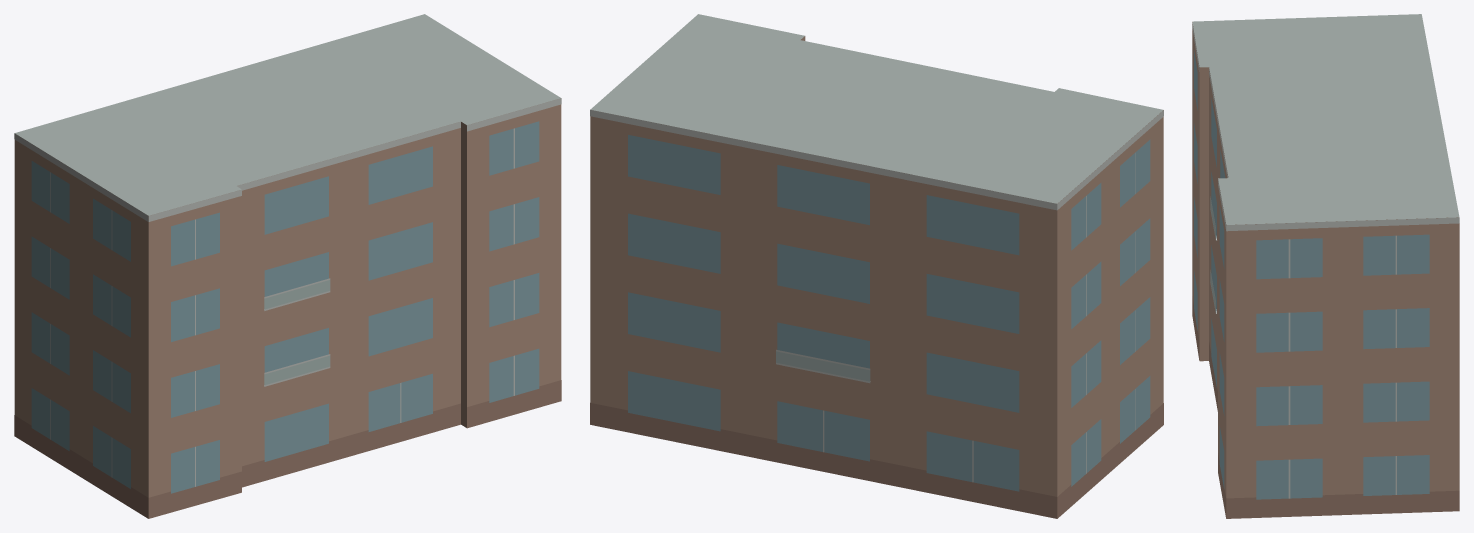
The model's file is survey-upis-32758390.glb.
The picture shows the model from 3 angles, left to right: view 1: azimuth 30°, elevation 25°; view 2: azimuth 150°, elevation 25°; view 3: azimuth 270°, elevation 25°; orthographic projection. The views are drawn at different scales.
Visible parts, largest first — view 1: survey-upis-32758390.tmp; view 2: survey-upis-32758390.tmp; view 3: survey-upis-32758390.tmp.
Part boxes in pixels (<box>): survey-upis-32758390.tmp: <box>14,14,561,518</box>; survey-upis-32758390.tmp: <box>590,14,1163,518</box>; survey-upis-32758390.tmp: <box>1192,14,1459,518</box>.
Bounding box in the file's own units: 18.04 × 11.7 × 9.65.
